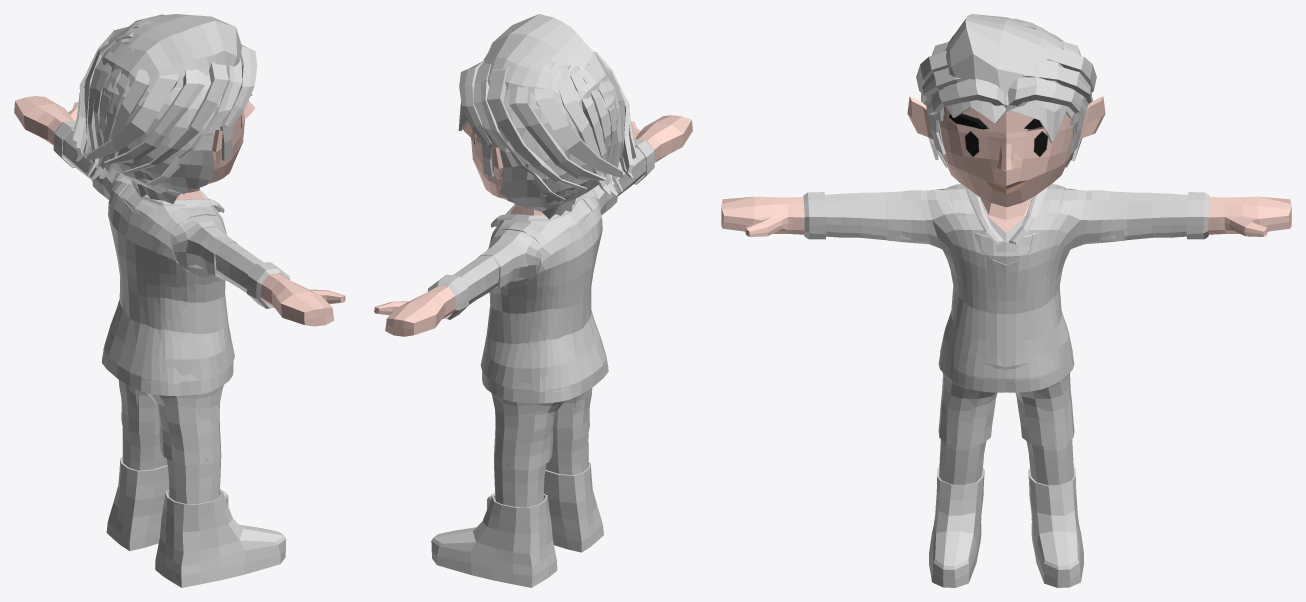
Rendered from PibeChiquito.fbx.
The picture shows the model from 3 angles, left to right: view 1: azimuth 30°, elevation 25°; view 2: azimuth 150°, elevation 25°; view 3: azimuth 270°, elevation 25°; orthographic projection. The views are drawn at different scales.
Parts seen in each view (by area): view 1: OF2_PeinadoLibrito, OF2_Camisa, OF1_ZapatoBota, OF3_MusculosaLakers, OF3_PeinadoCopo, Cuerpo, OF1_PeloNormal, OF2_PantalonLargo, OF1_Pantalon, OF1_Remera, OF3_PantalonLakers; view 2: OF2_PeinadoLibrito, OF2_Camisa, OF1_ZapatoBota, OF3_MusculosaLakers, OF3_PeinadoCopo, Cuerpo, OF1_PeloNormal, OF2_PantalonLargo, OF1_Pantalon, OF1_Remera, OF3_PantalonLakers; view 3: OF2_Camisa, Cuerpo, OF1_ZapatoBota, OF3_MusculosaLakers, OF2_PeinadoLibrito, OF2_PantalonLargo, OF3_PeinadoCopo, OF1_Remera, OF1_PeloNormal, OF1_Pantalon, OF3_PantalonLakers, OF3_Zapato.
Part boxes in pixels (x1,y1,x2,y2): OF2_PeinadoLibrito: (72,14,257,189); OF2_Camisa: (53,120,289,384); OF1_ZapatoBota: (106,456,286,587); OF3_MusculosaLakers: (101,177,233,395); OF3_PeinadoCopo: (95,14,241,186); Cuerpo: (14,96,345,326); OF1_PeloNormal: (94,72,252,203); OF2_PantalonLargo: (122,383,223,503); OF1_Pantalon: (118,379,218,451); OF1_Remera: (92,158,237,383); OF3_PantalonLakers: (121,407,220,465); OF2_PeinadoLibrito: (459,51,636,203); OF2_Camisa: (427,139,654,392); OF1_ZapatoBota: (431,461,603,587); OF3_MusculosaLakers: (482,193,608,403); OF3_PeinadoCopo: (484,14,614,203); Cuerpo: (374,115,692,336); OF1_PeloNormal: (458,89,618,219); OF2_PantalonLargo: (491,391,588,507); OF1_Pantalon: (496,388,592,456); OF1_Remera: (477,174,618,391); OF3_PantalonLakers: (494,413,589,469); OF2_Camisa: (803,187,1209,378); Cuerpo: (721,96,1291,236); OF1_ZapatoBota: (929,467,1083,587); OF3_MusculosaLakers: (938,184,1074,392); OF2_PeinadoLibrito: (916,18,1096,167); OF2_PantalonLargo: (939,372,1073,485); OF3_PeinadoCopo: (939,14,1074,142); OF1_Remera: (887,190,1125,368); OF1_PeloNormal: (924,80,1093,161); OF1_Pantalon: (939,385,1073,432); OF3_PantalonLakers: (938,419,1074,445); OF3_Zapato: (943,531,1069,566).
Size of the model in its own units: 202 by 604 by 587.
